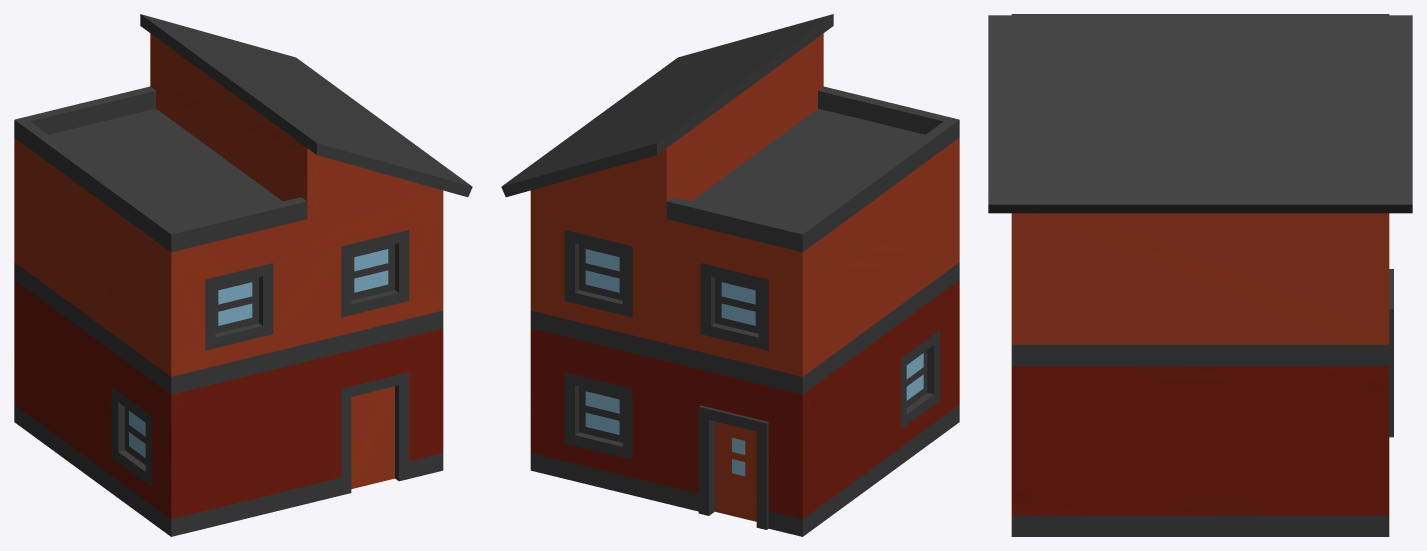
Rendered from house_type21.fbx.
3 renders of one model, left to right at view 1: azimuth 30°, elevation 25°; view 2: azimuth 150°, elevation 25°; view 3: azimuth 270°, elevation 25°, orthographic. The views are drawn at different scales.
Parts seen in each view (by area): view 1: house_type21; view 2: house_type21; view 3: house_type21.
Boxes of the visible parts, x1,y1,x2,y2 form: house_type21: [14, 14, 472, 536]; house_type21: [501, 14, 959, 536]; house_type21: [988, 14, 1412, 536].
Size of the model in its own units: 8.58 by 10.34 by 9.
Materials: 1 (1 with a texture image).
